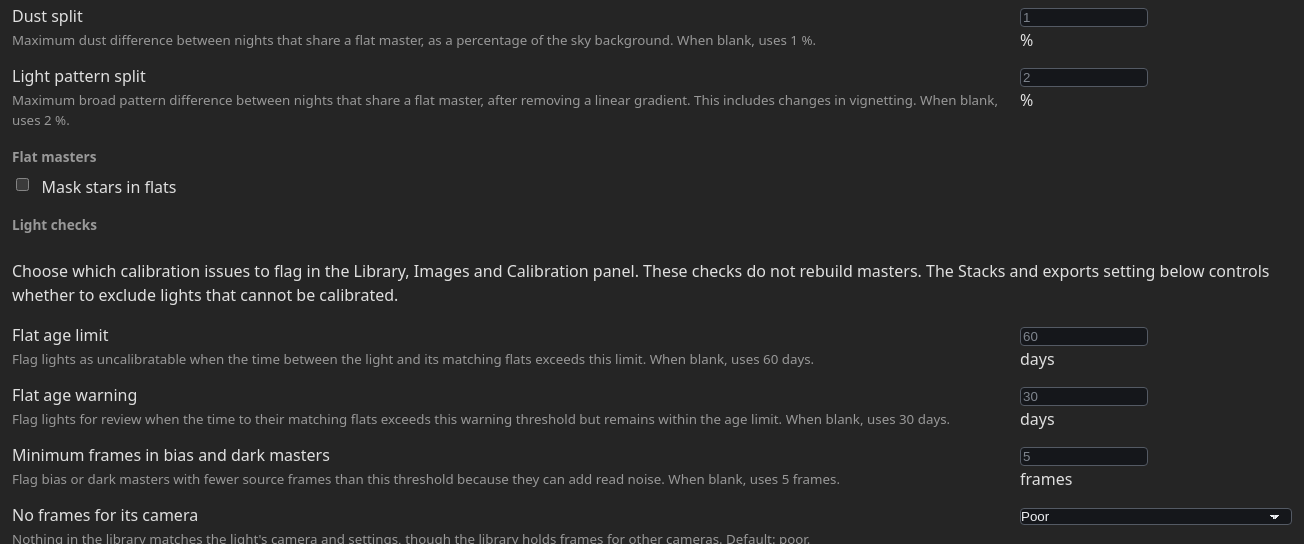
it: CalibrationMatchingSettings › retains an unsaved change after a failed save and allows retry
(page scrolled)
Click the checkbox labelled "Mask stars in flats" at (22,185), box [16,178,29,191]
(page scrolled)
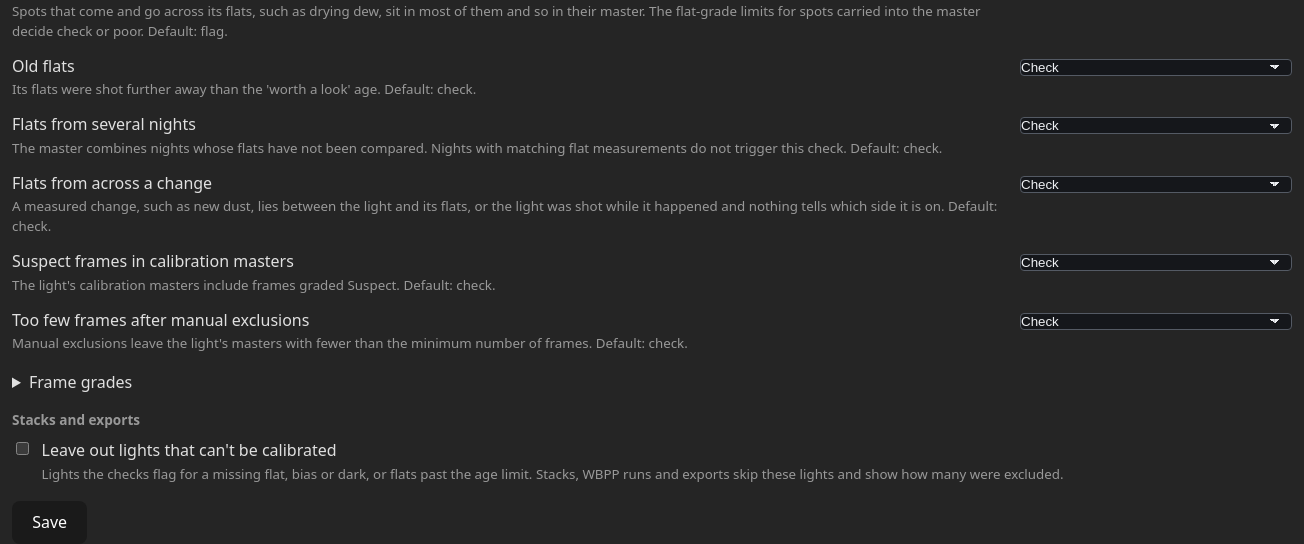
Click the button "Save" at (50,522), box [12,501,87,543]
(page scrolled)
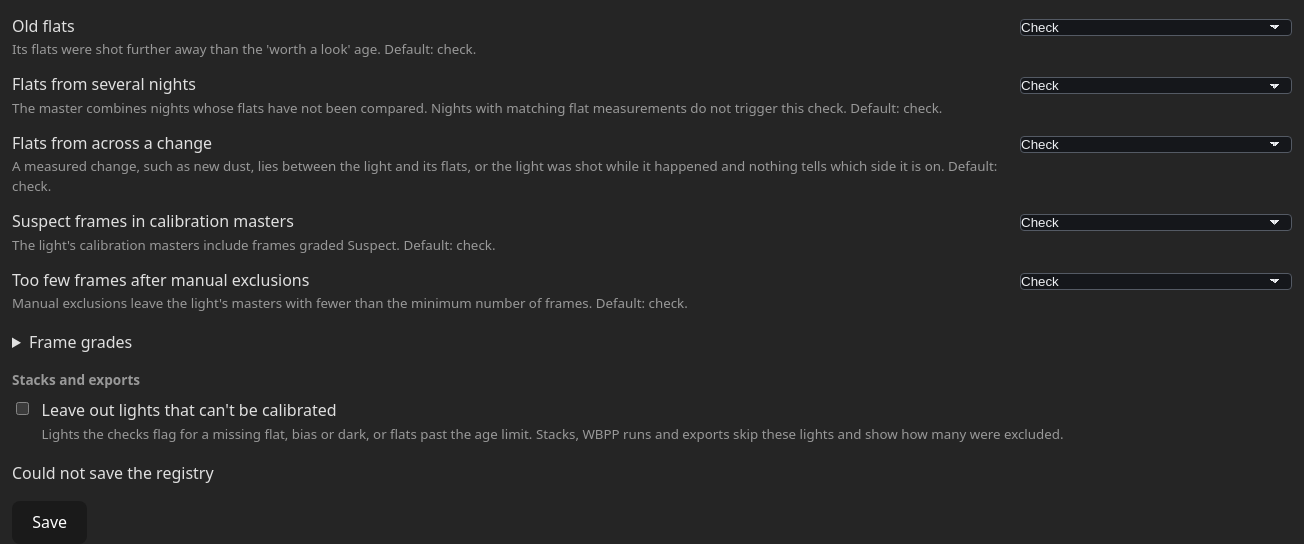
Now the button "Save" is enabled
Now the message reads "Could not save the registry", box [12,462,214,484]
Click the button "Save" at (50,522), box [12,501,87,543]
(page scrolled)
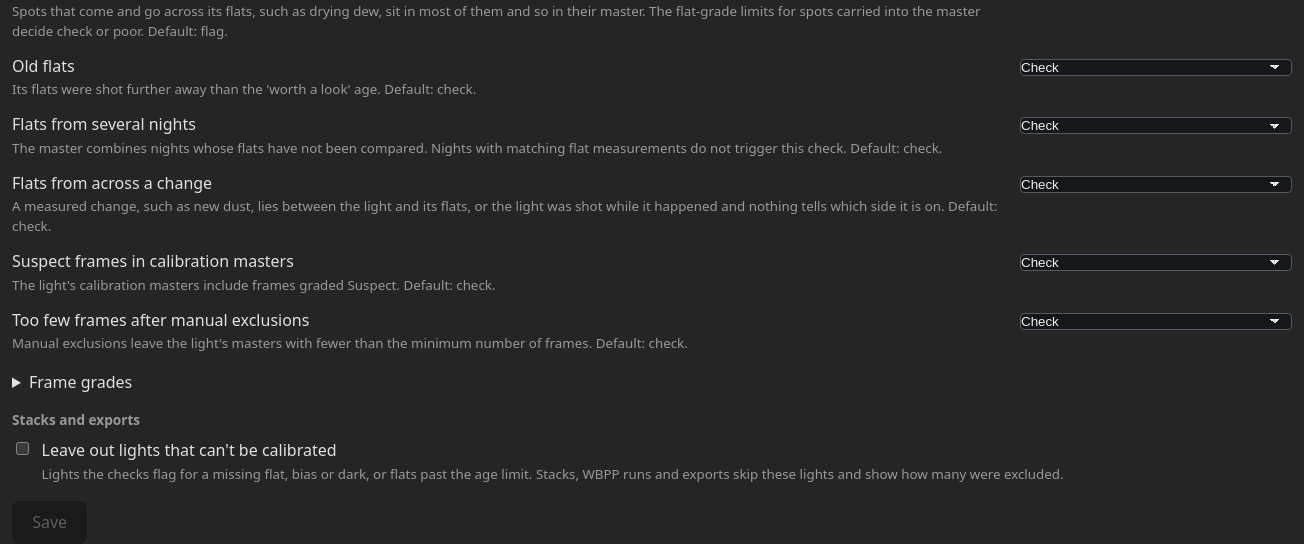
Now the message "Could not save the registry" is gone
Now the button "Save" is disabled, box [12,501,87,543]
